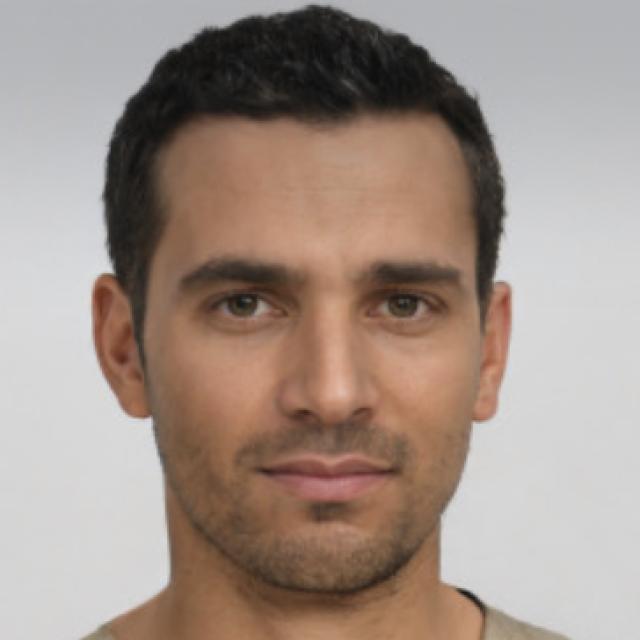natural: (100, 38, 514, 562)
